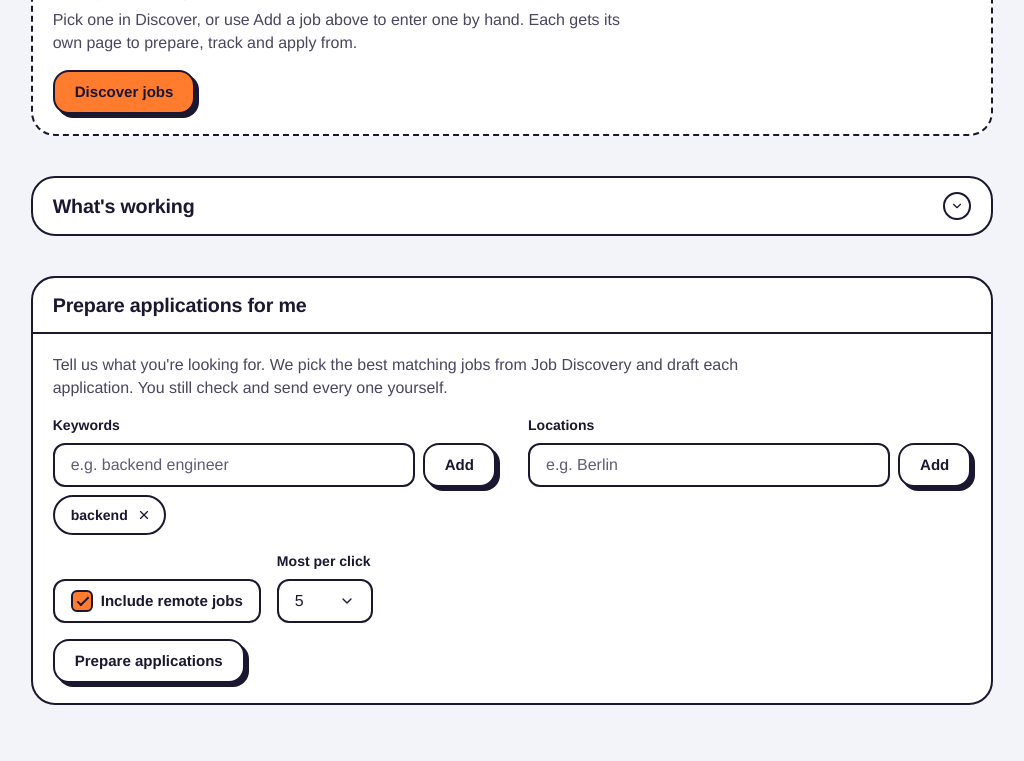
Test: Prepare applications for me › says so when nothing new matched
(page scrolled)
Expected: the text "backend" is shown, [71,505,128,525]
Click the button "Prepare applications" at [149, 661], box [53,639,245,683]
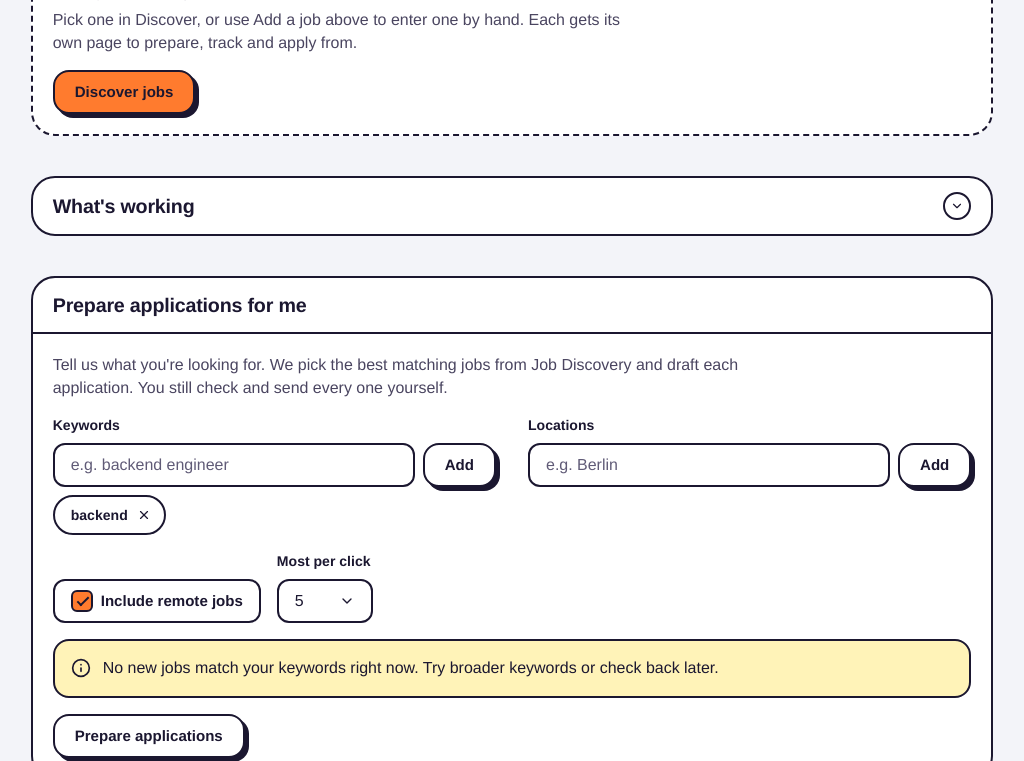
Now the text "No new jobs match your keywords" is shown, box [103,658,719,678]
